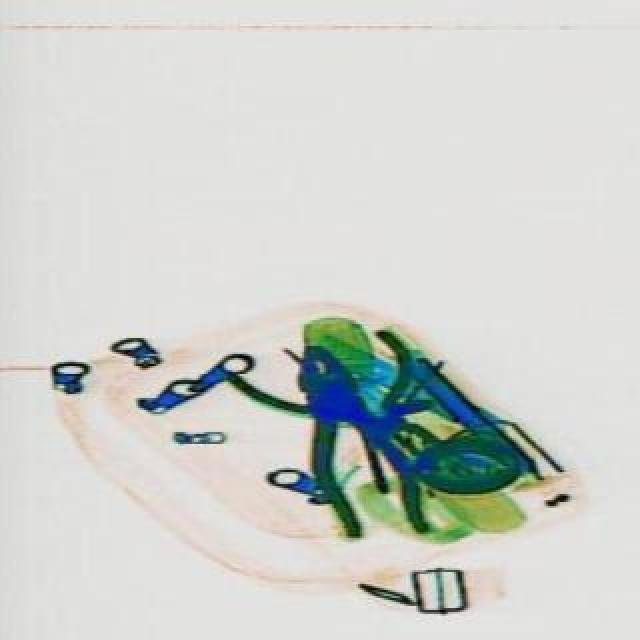wrench: (216, 270, 492, 522), (268, 330, 432, 556)
